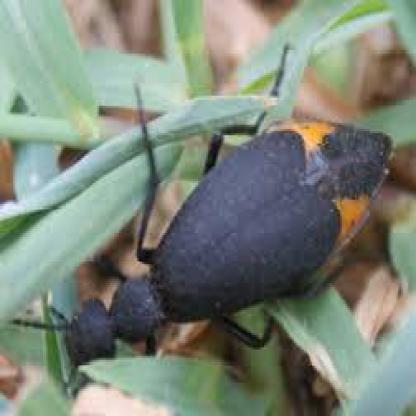blister beetle: (64, 93, 393, 371)
